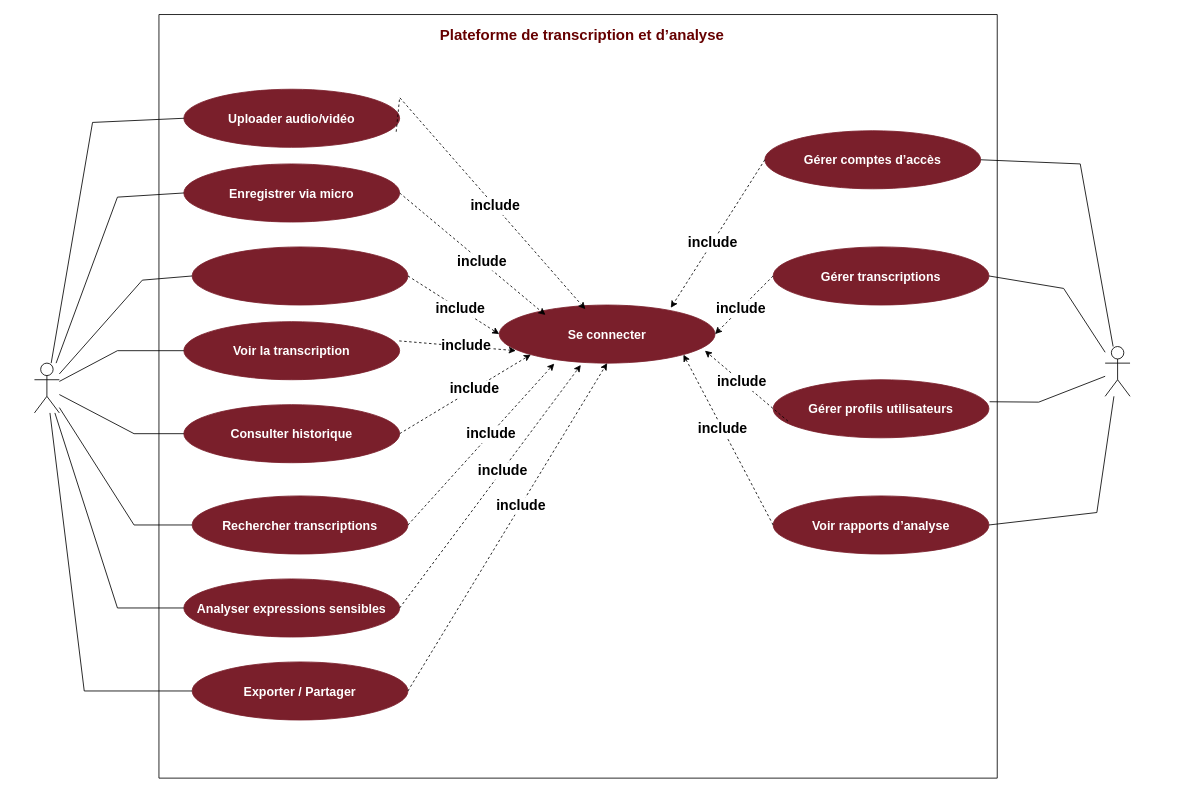
Image size: 1182x793. Some labels were removed from this diagram. Each missing label, with the centre of its shape:
Administrateur: the point at 1117,371
Lancer transcription: the point at 299,275
Utilisateur: the point at 46,387
